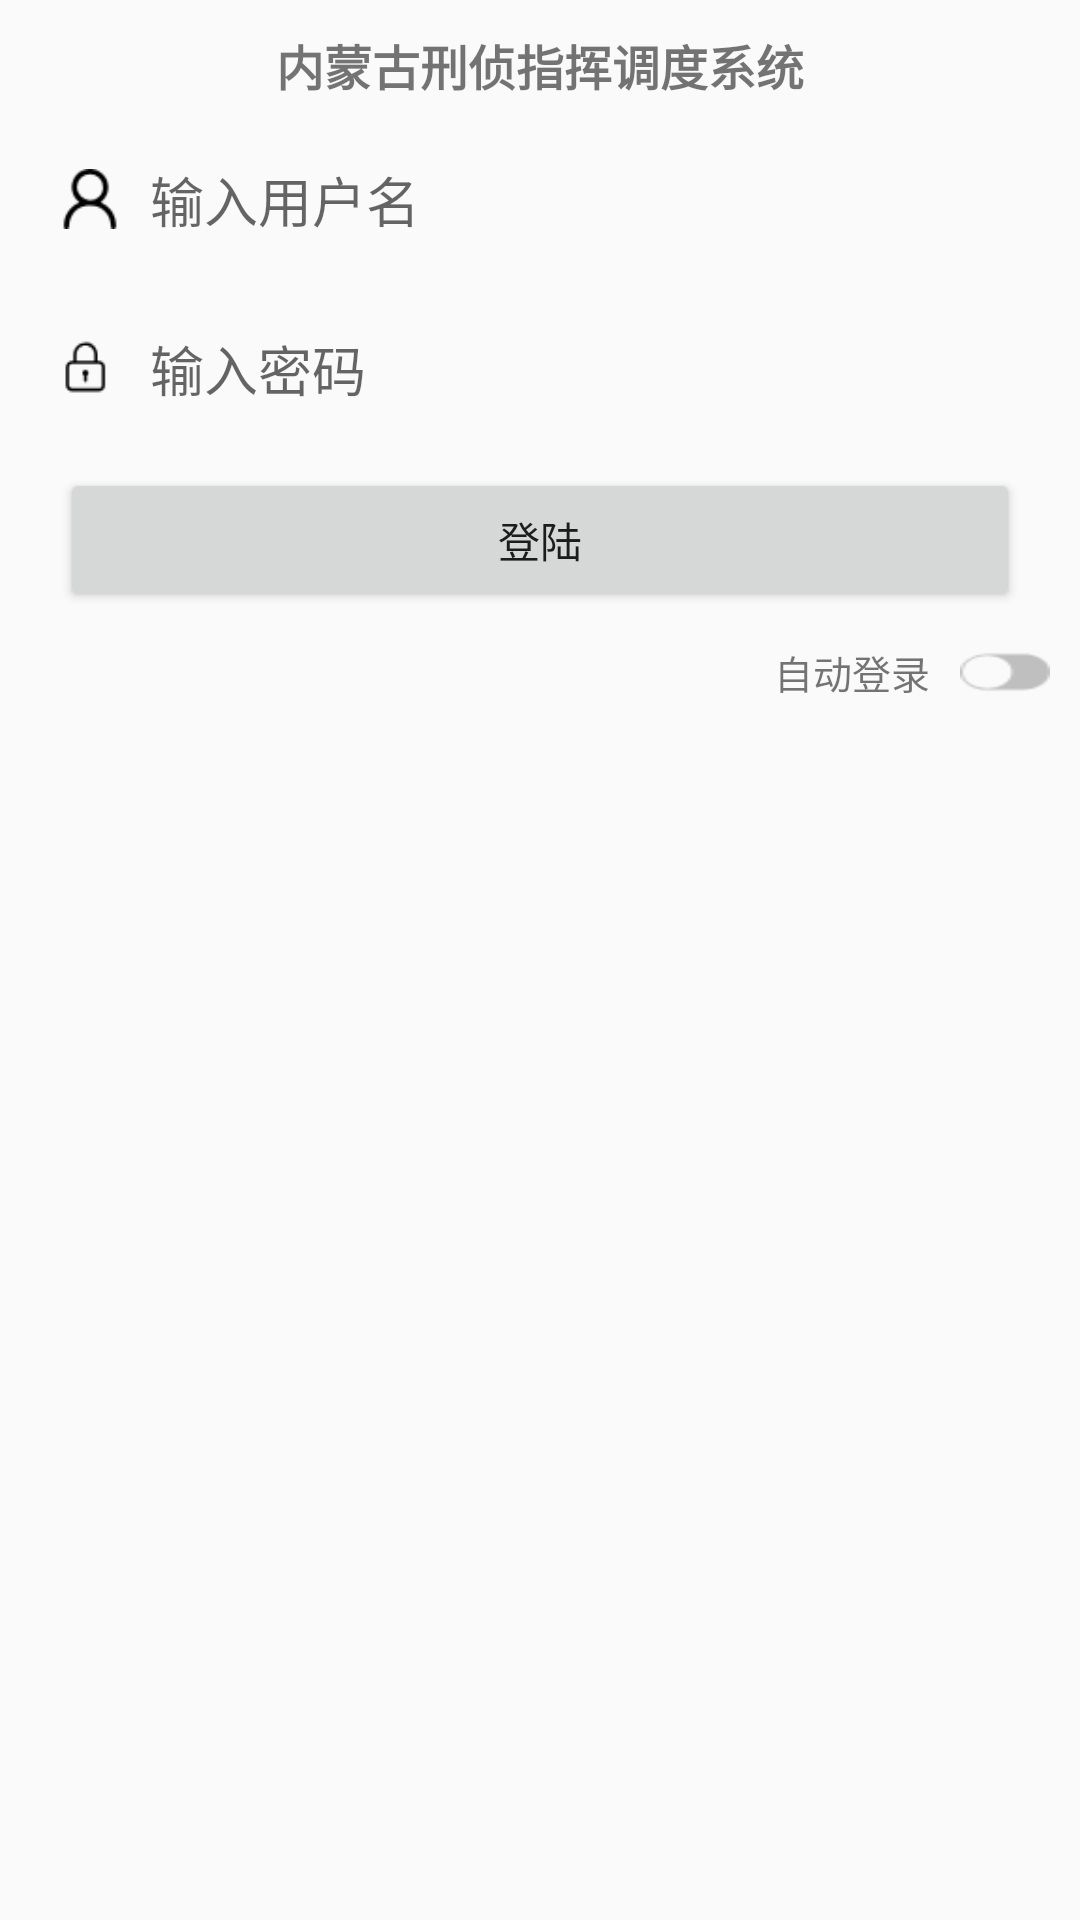

Named icons in this screenshot (1080 × 1920) and their centers, point (x, y):
password: point (85, 367)
username: point (90, 199)
